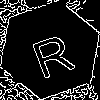R: (25, 25, 77, 80)
